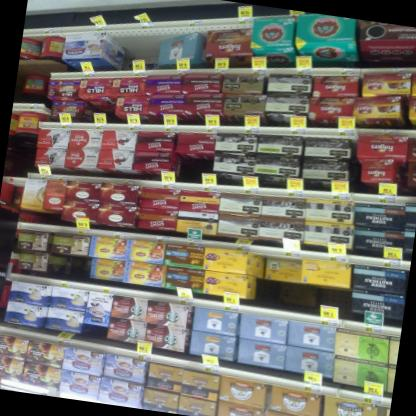empty_space: (107, 28, 158, 71)
